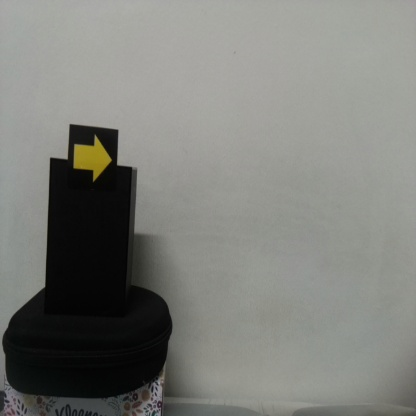id_3: (69, 126, 117, 194)
